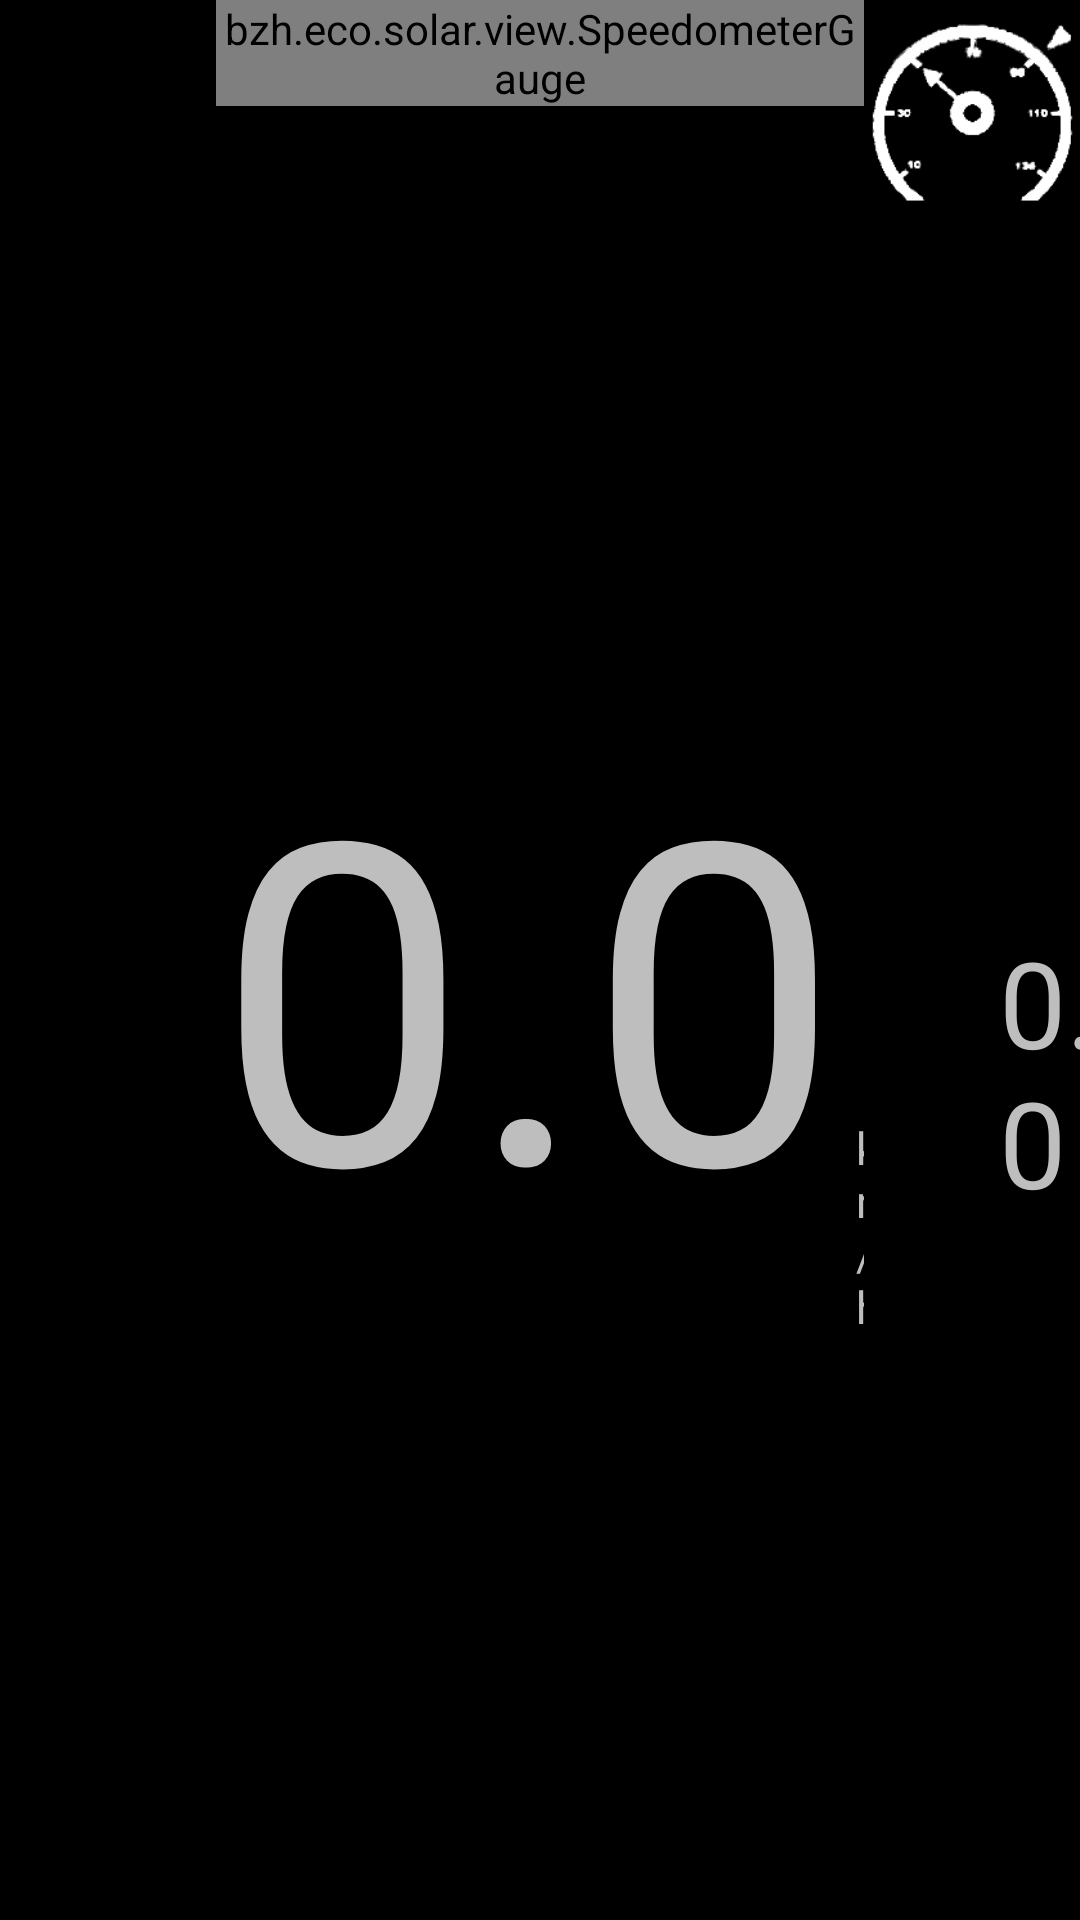

Icon click points for this 1080 x 1920 phone screenshot, format point (x, y):
speed regulator off: point (972, 112)
